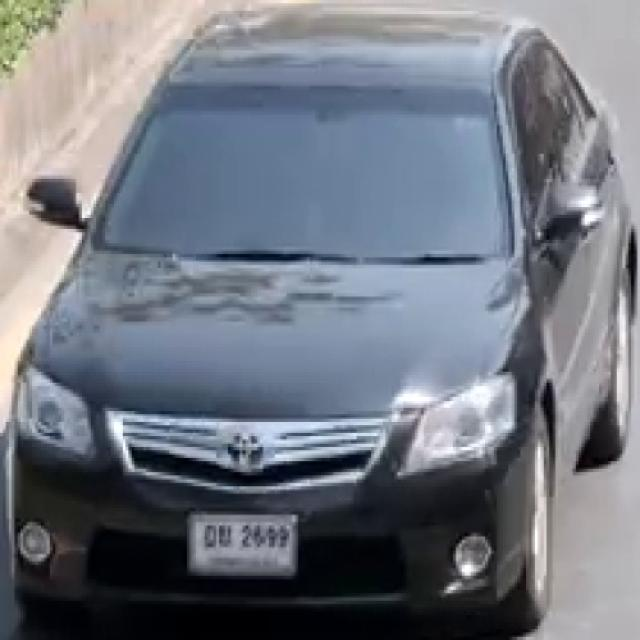plate: (191, 517, 296, 573)
